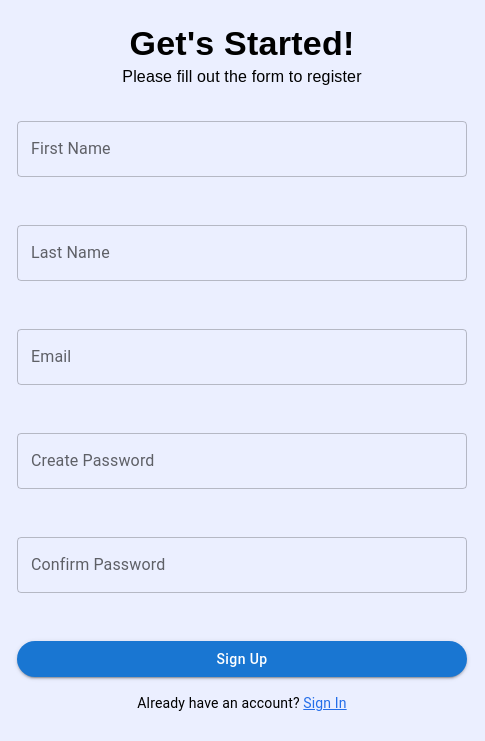
Test: SignUp › shows validation error for invalid email address
This screenshot has width=485, height=741.
Type "invalid-email" into the field with test id "user-email".
click(242, 357); type("invalid-email")  # box [17, 329, 467, 385]
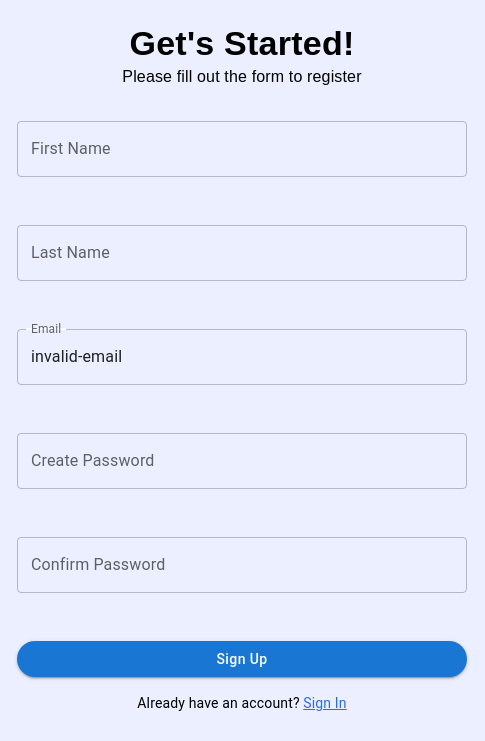
Click the button "Sign Up".
click(242, 659)  # box [17, 641, 467, 677]
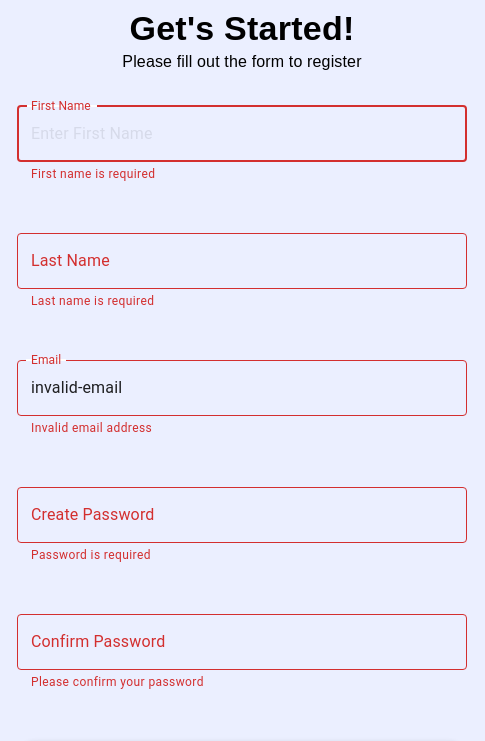
Expected: the text "Invalid email address" is shown, [31, 421, 152, 435]
